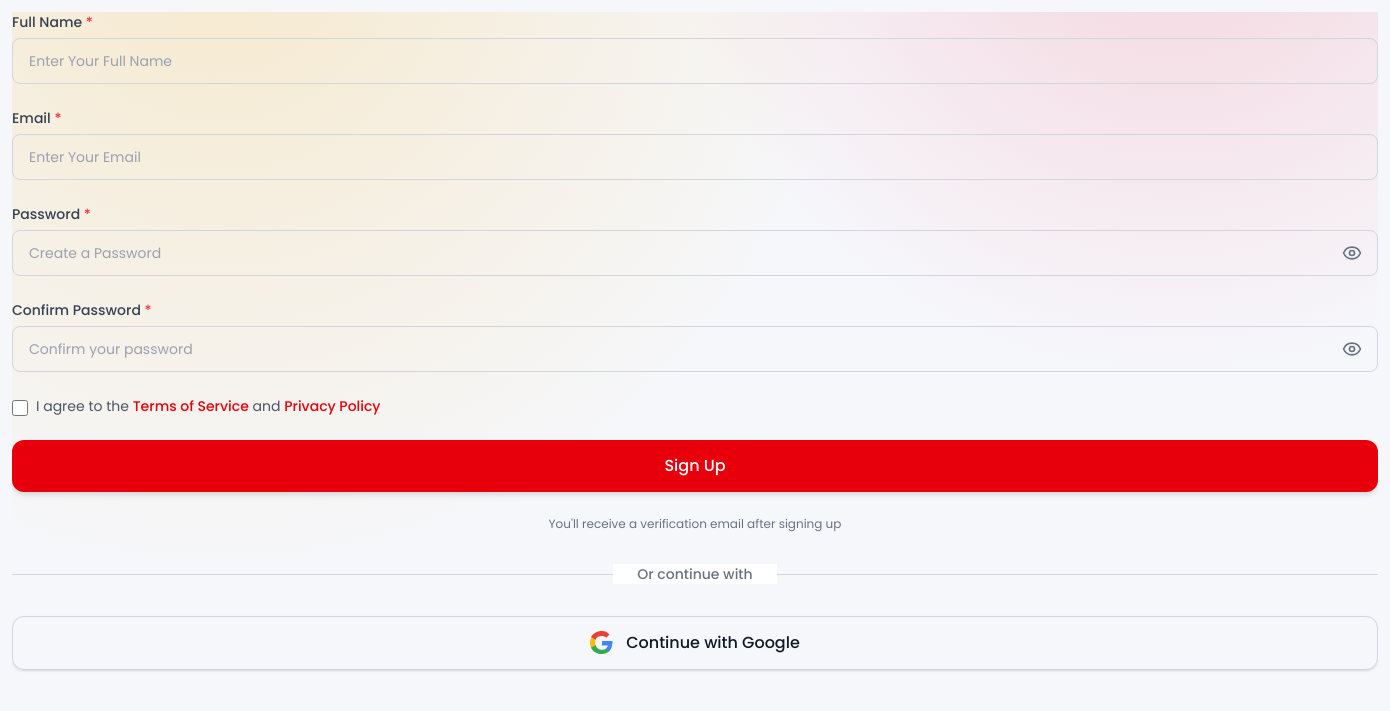
Test case: SignupForm › shows validation error when passwords don't match
Type "Test User" into the field with placeholder "Enter Your Full Name".
click(695, 61); type("Test User")  # box left=12, top=38, right=1378, bottom=84
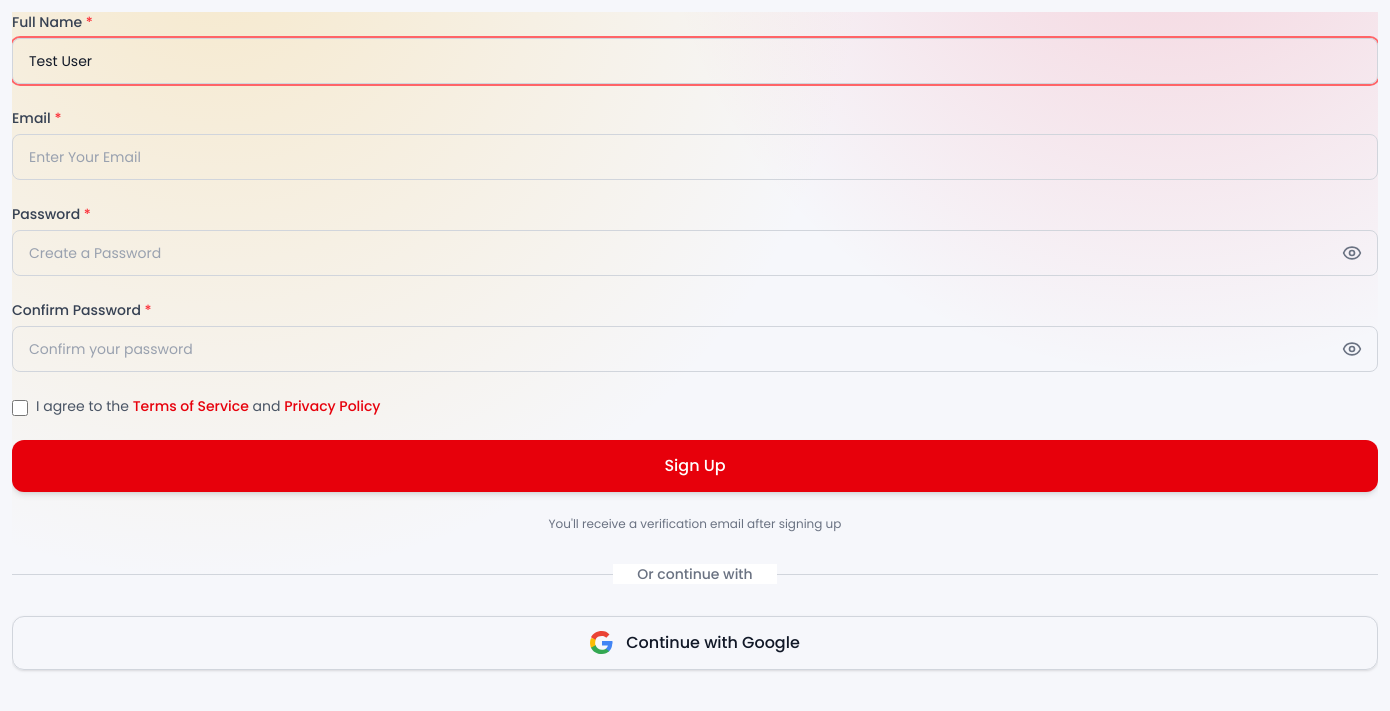
Type "test@test.com" into the field with placeholder "Enter Your Email".
click(695, 157); type("test@test.com")  # box left=12, top=134, right=1378, bottom=180
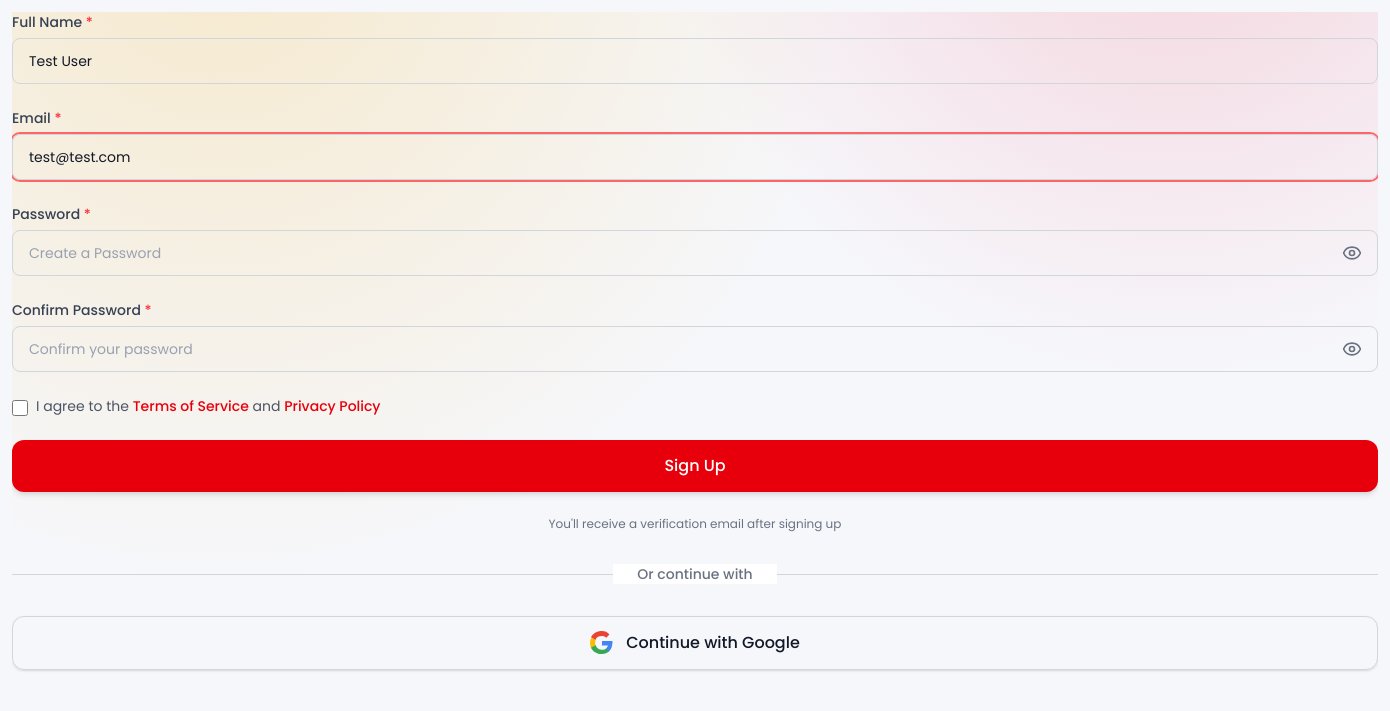
Type "StrongPass1!" into the password field with placeholder "Create a Password".
click(695, 253); type("StrongPass1!")  # box left=12, top=230, right=1378, bottom=276
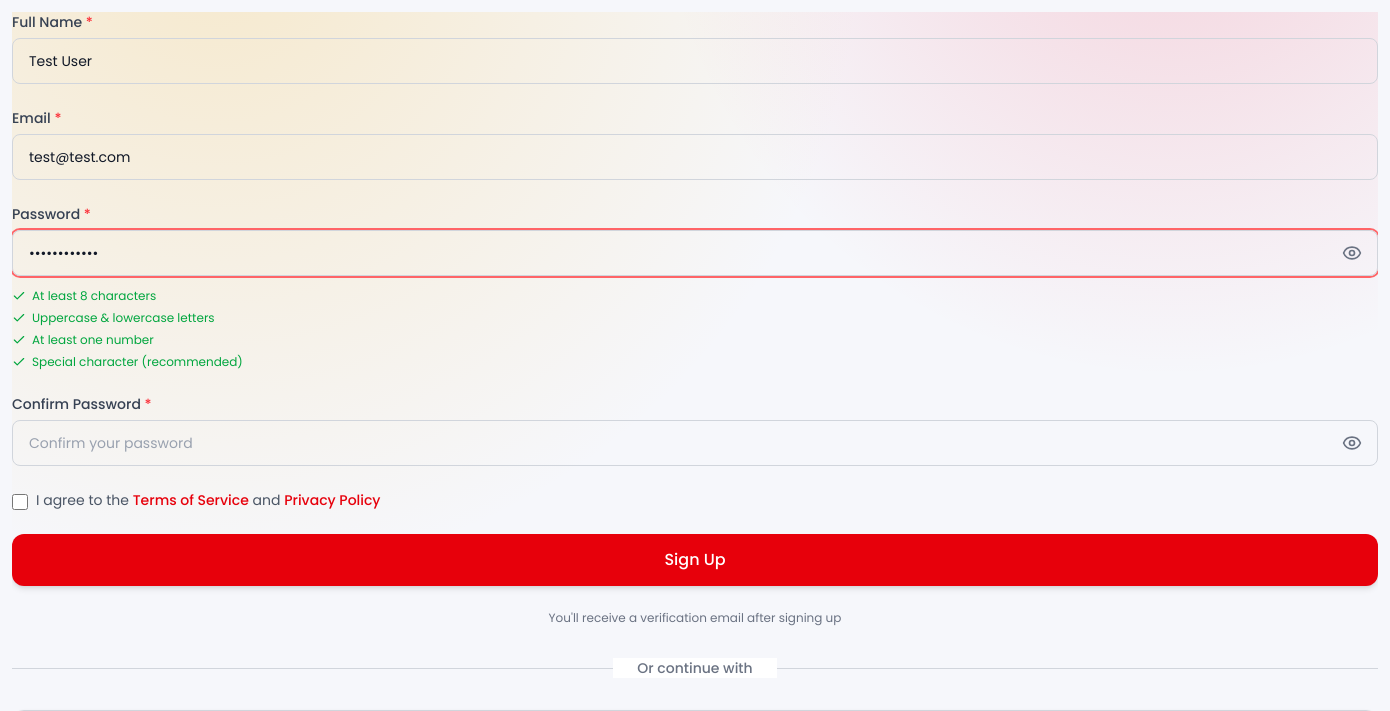
Type "DifferentPass1!" into the password field with placeholder "Confirm your password".
click(695, 443); type("DifferentPass1!")  # box left=12, top=420, right=1378, bottom=466
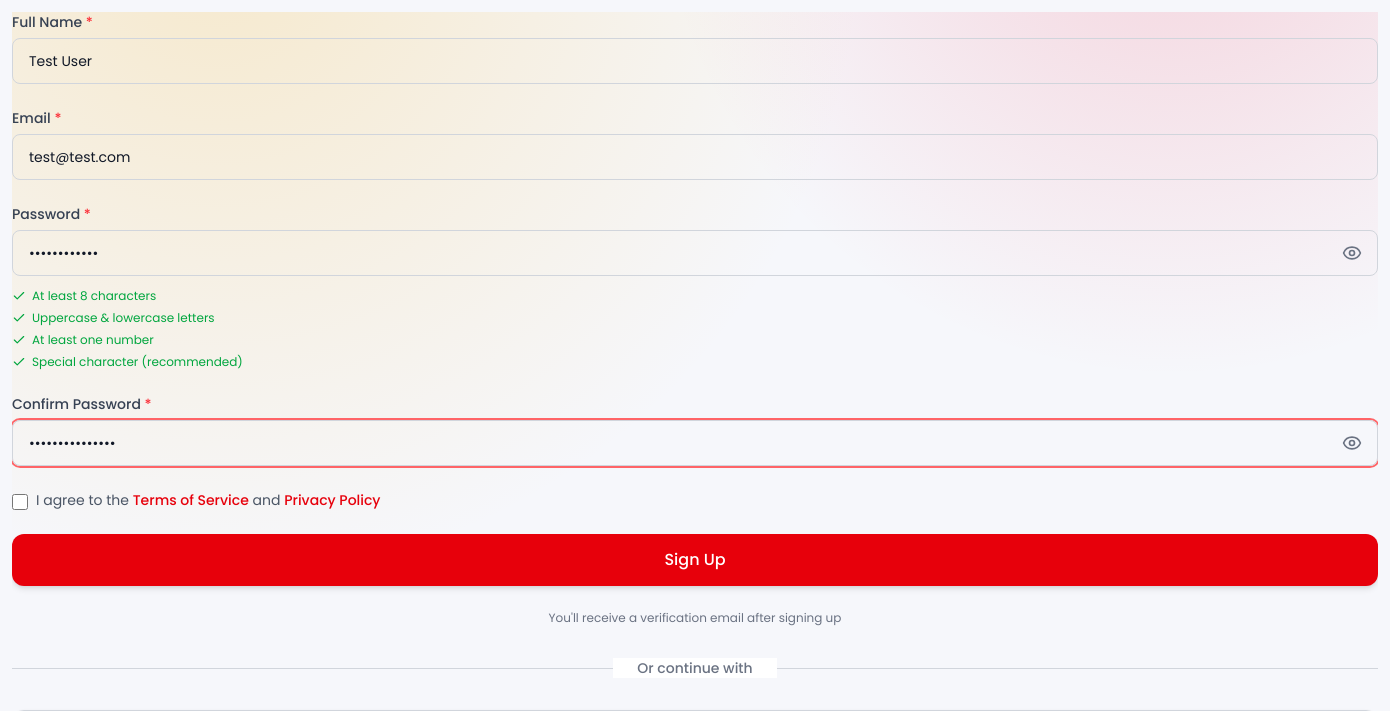
Click the button "Sign Up".
click(695, 560)  # box left=12, top=534, right=1378, bottom=586
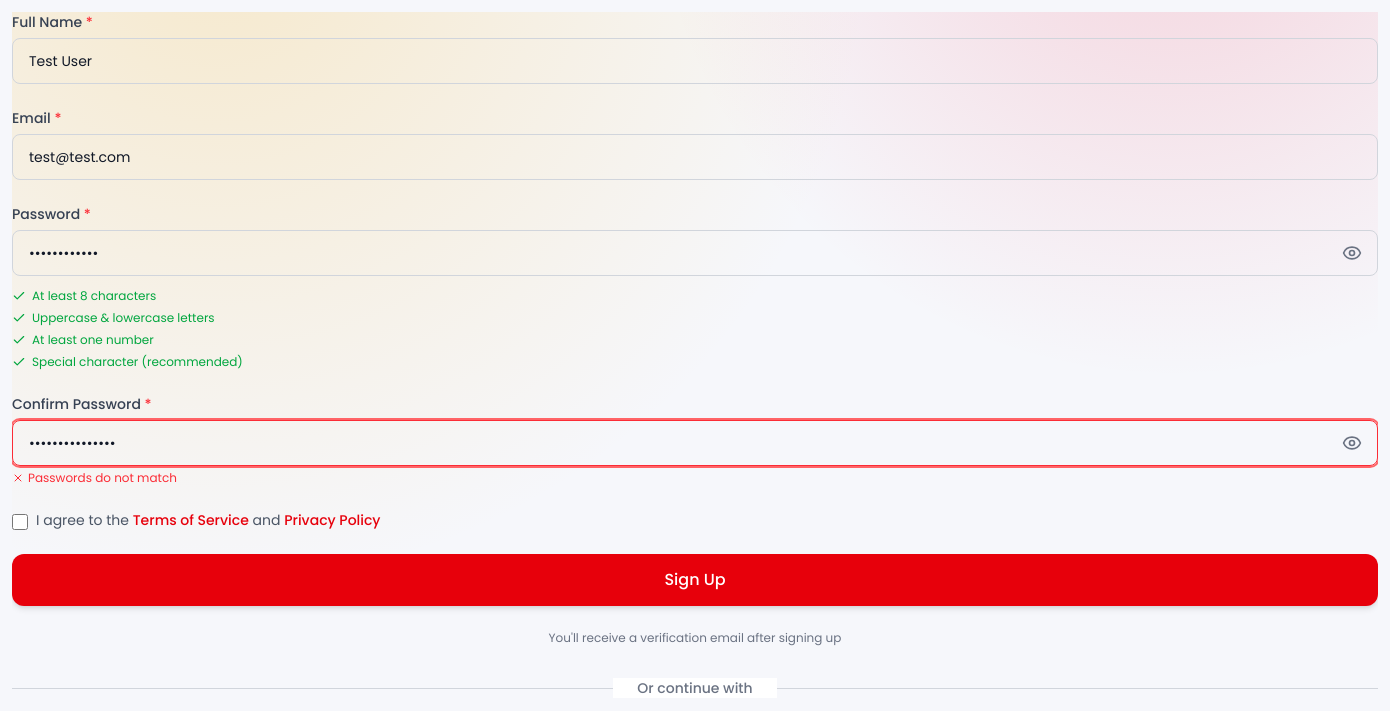
Check: the text "Passwords do not match" is shown, box left=12, top=469, right=177, bottom=486
